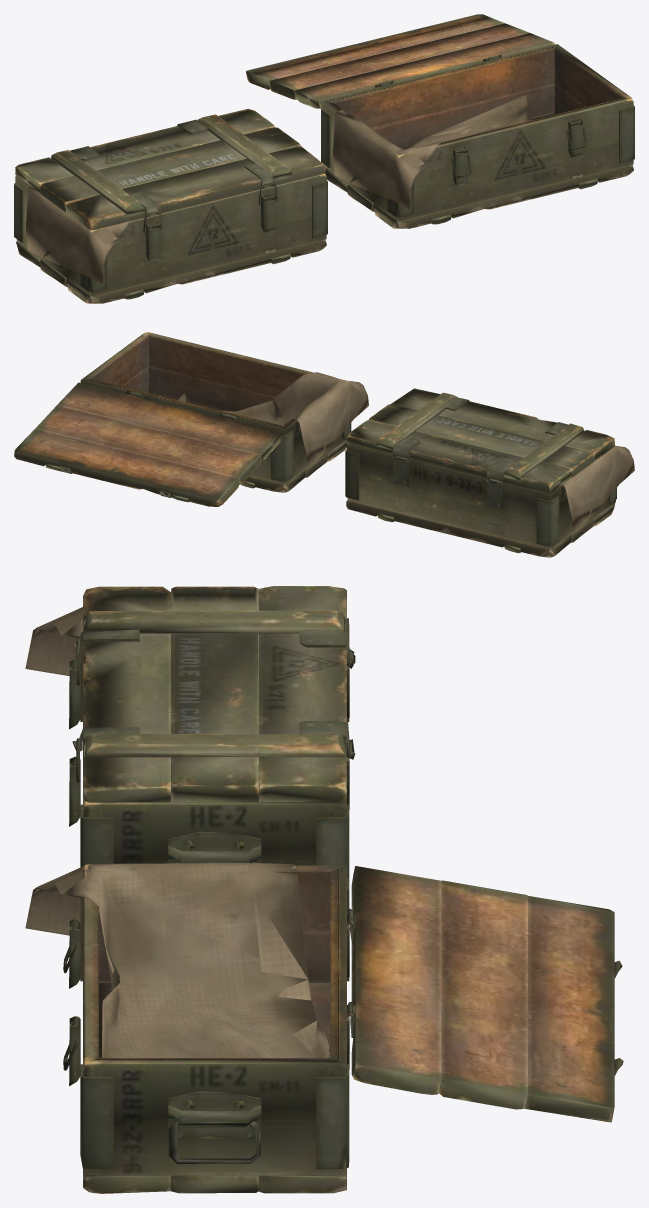
File: old_military_crate.glb
3 renders of one model, top to bottom at view 1: azimuth 30°, elevation 25°; view 2: azimuth 150°, elevation 25°; view 3: azimuth 270°, elevation 25°, orthographic. The views are drawn at different scales.
Visible parts, largest first — view 1: old_military_crate_b, old_military_crate_lid_a, old_military_crate_a, old_military_crate_lid_b, old_military_crate_cloth_b, old_military_crate_cloth_a, old_military_crate_latch_a, old_military_crate_latch_b; view 2: old_military_crate_lid_b, old_military_crate_lid_a, old_military_crate_a, old_military_crate_b, old_military_crate_cloth_b, old_military_crate_cloth_a; view 3: old_military_crate_lid_a, old_military_crate_lid_b, old_military_crate_b, old_military_crate_cloth_b, old_military_crate_a, old_military_crate_cloth_a, old_military_crate_latch_b, old_military_crate_latch_a.
Part boxes in pixels (box(x1,y1,x2,y2)): old_military_crate_b: box(321, 44, 634, 228); old_military_crate_lid_a: box(15, 108, 326, 230); old_military_crate_a: box(14, 173, 327, 303); old_military_crate_lid_b: box(246, 14, 554, 108); old_military_crate_cloth_b: box(333, 95, 531, 209); old_military_crate_cloth_a: box(25, 186, 129, 284); old_military_crate_latch_a: box(145, 193, 276, 261); old_military_crate_latch_b: box(453, 118, 583, 186); old_military_crate_lid_b: box(14, 382, 282, 506); old_military_crate_lid_a: box(346, 388, 615, 493); old_military_crate_a: box(345, 444, 616, 557); old_military_crate_b: box(80, 332, 351, 492); old_military_crate_cloth_b: box(175, 372, 368, 468); old_military_crate_cloth_a: box(562, 446, 634, 533); old_military_crate_lid_a: box(72, 586, 355, 802); old_military_crate_lid_b: box(347, 866, 623, 1122); old_military_crate_b: box(80, 864, 354, 1193); old_military_crate_cloth_b: box(25, 863, 329, 1057); old_military_crate_a: box(80, 618, 355, 882); old_military_crate_cloth_a: box(25, 607, 82, 675); old_military_crate_latch_b: box(69, 919, 80, 1086); old_military_crate_latch_a: box(69, 659, 80, 826).
Bounding box in the file's own units: 1.81 × 0.2996 × 0.9744.
Materials: 1 (1 with a texture image).
